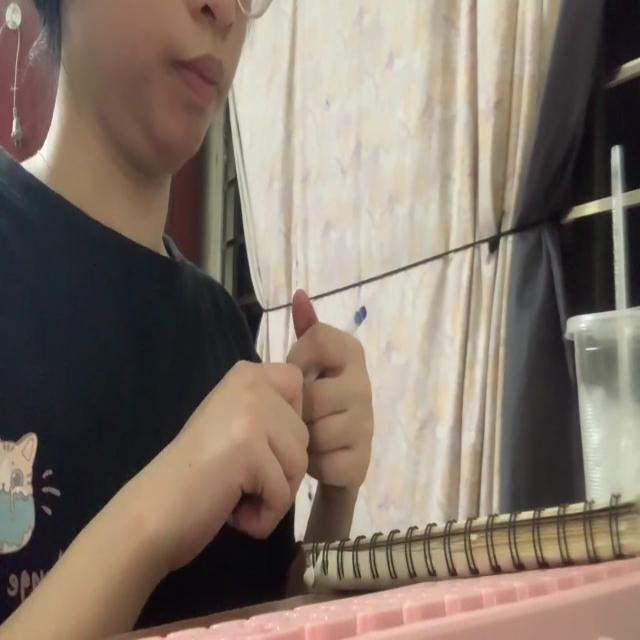book: (294, 494, 640, 591)
student: (0, 0, 378, 640)
